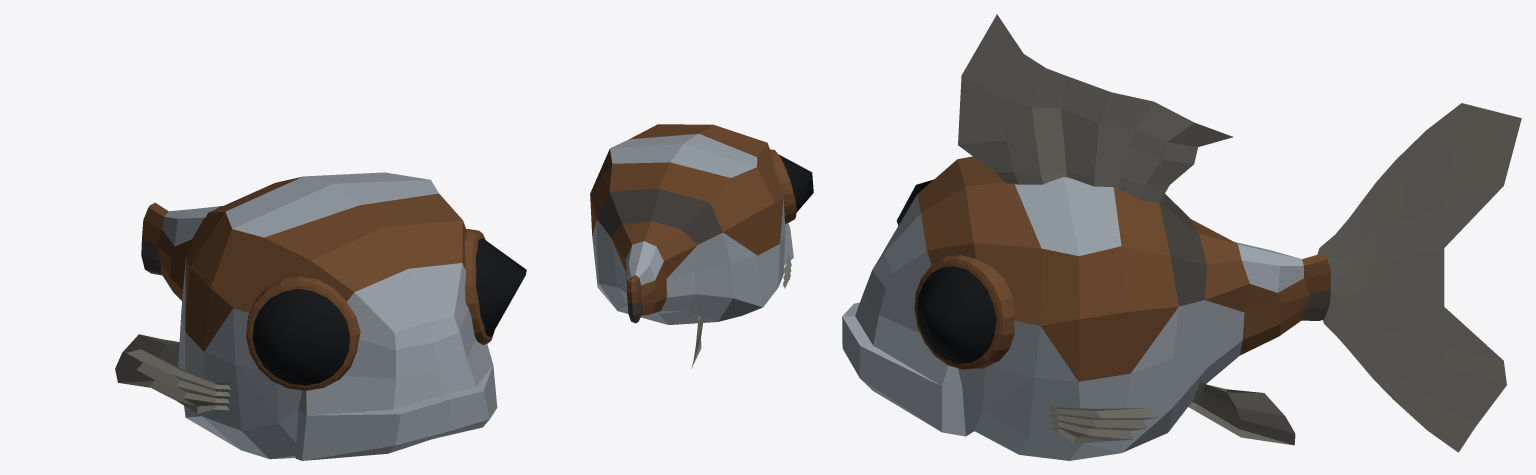
File: cc0-koi-lod1.glb
3 renders of one model, left to right at view 1: azimuth 30°, elevation 25°; view 2: azimuth 150°, elevation 25°; view 3: azimuth 270°, elevation 25°, orthographic. The views are drawn at different scales.
Parts seen in each view (by area): view 1: part_0; view 2: part_0; view 3: part_0.
Part boxes in pixels (left/top/right/bottom): part_0: left=115, top=172, right=526, bottom=460; part_0: left=590, top=124, right=813, bottom=368; part_0: left=842, top=14, right=1521, bottom=460.
Bounding box in the file's own units: 3.15 × 4.47 × 5.6.
